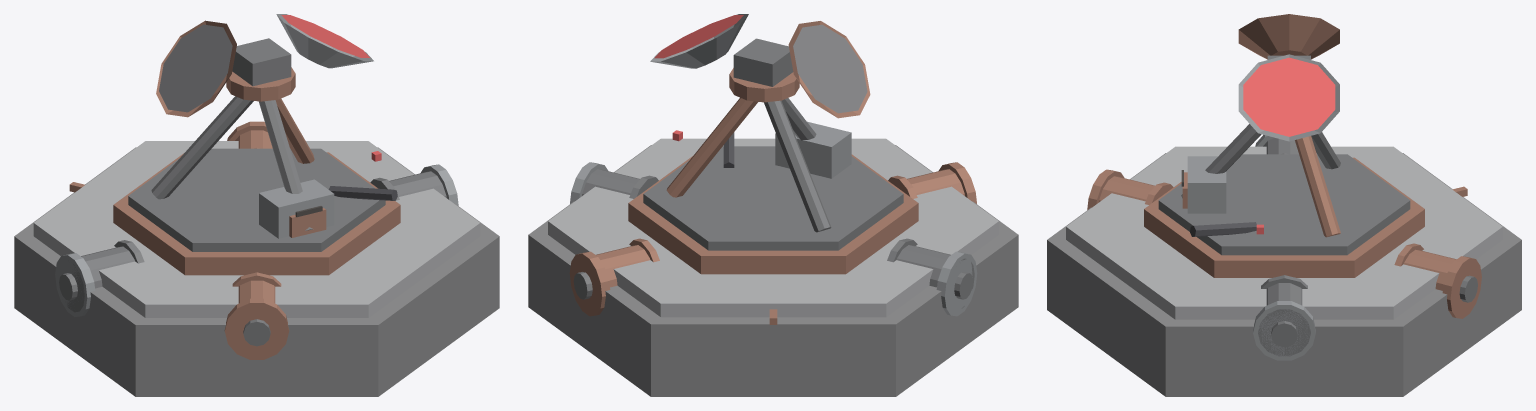
File: control_projector_s2_50.glb
3 renders of one model, left to right at view 1: azimuth 30°, elevation 25°; view 2: azimuth 150°, elevation 25°; view 3: azimuth 270°, elevation 25°, orthographic. The views are drawn at different scales.
Visible parts, largest first — view 1: CP_Base; view 2: CP_Base; view 3: CP_Base.
Boxes of the visible parts, x1=… form: CP_Base: x1=14, y1=14, x2=499, y2=396; CP_Base: x1=528, y1=14, x2=1018, y2=396; CP_Base: x1=1047, y1=14, x2=1521, y2=396.
Size of the model in its own units: 1.78 by 1.29 by 1.96.
